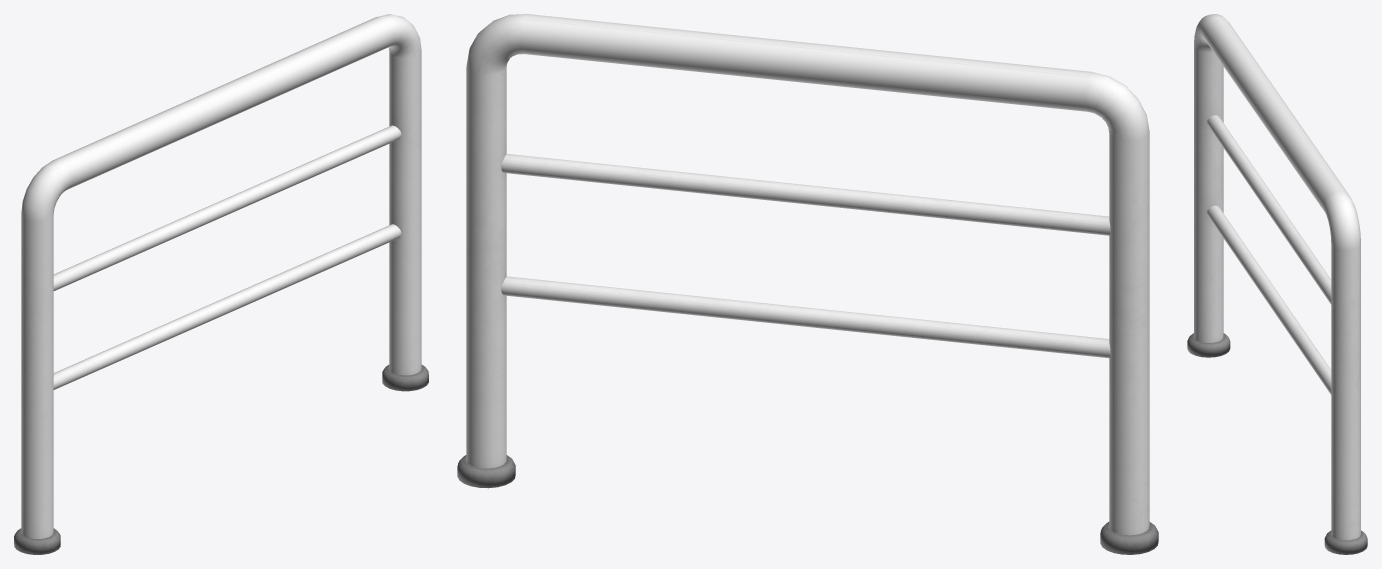
The model's file is SM_076_Guardrail_03.fbx.
3 renders of one model, left to right at view 1: azimuth 30°, elevation 25°; view 2: azimuth 150°, elevation 25°; view 3: azimuth 270°, elevation 25°, orthographic. The views are drawn at different scales.
Parts seen in each view (by area): view 1: SM_076_Guardrail_03; view 2: SM_076_Guardrail_03; view 3: SM_076_Guardrail_03.
Part boxes in pixels (box(x1,y1,x2,y2)): SM_076_Guardrail_03: box(14, 14, 428, 554); SM_076_Guardrail_03: box(457, 14, 1158, 554); SM_076_Guardrail_03: box(1187, 14, 1367, 554).
Size of the model in its own units: 111 by 39.31 by 82.47.
Materials: 1 (1 with a texture image).
